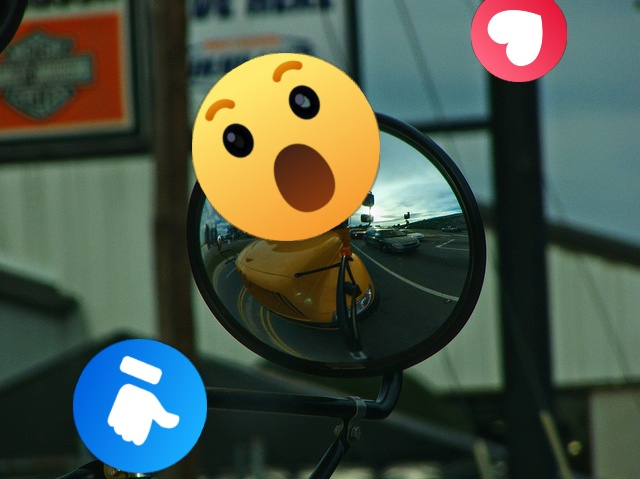like: (73, 339, 207, 473)
love: (471, 0, 567, 82)
wow: (192, 53, 380, 241)
